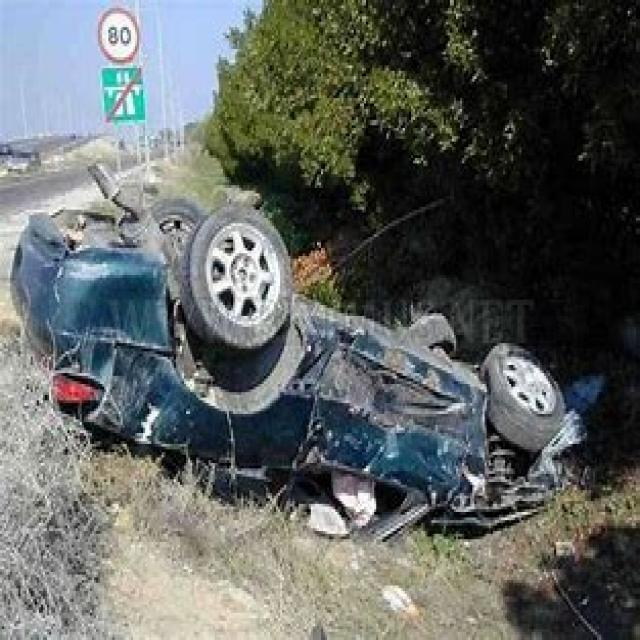Accident: (22, 137, 595, 536)
